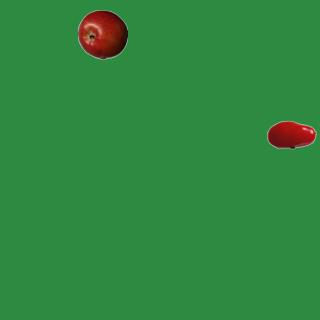Apple Braeburn: (77, 9, 127, 59)
Tomato 2: (266, 109, 316, 159)
